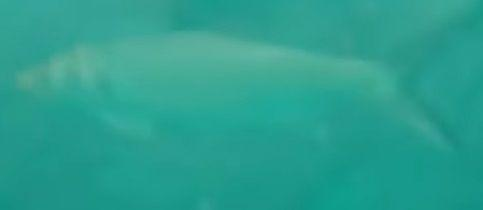Bangus: (14, 8, 483, 165)
